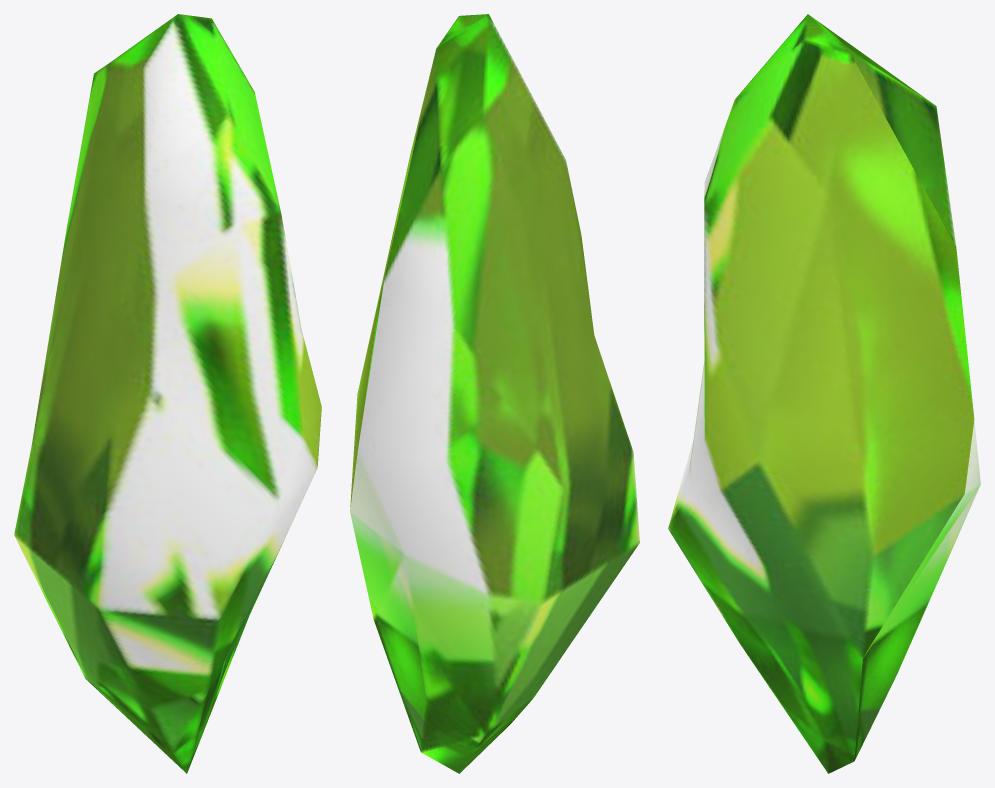
The model's file is Jewellery2.glb.
3 renders of one model, left to right at view 1: azimuth 30°, elevation 25°; view 2: azimuth 150°, elevation 25°; view 3: azimuth 270°, elevation 25°, orthographic. The views are drawn at different scales.
Parts seen in each view (by area): view 1: Jewel02; view 2: Jewel02; view 3: Jewel02.
Boxes of the visible parts, x1,y1,x2,y2 form: Jewel02: [14, 14, 321, 773]; Jewel02: [350, 14, 639, 773]; Jewel02: [668, 14, 980, 773].
Bounding box in the file's own units: 0.131 × 0.4116 × 0.1555.
1 material, 1 textured.
